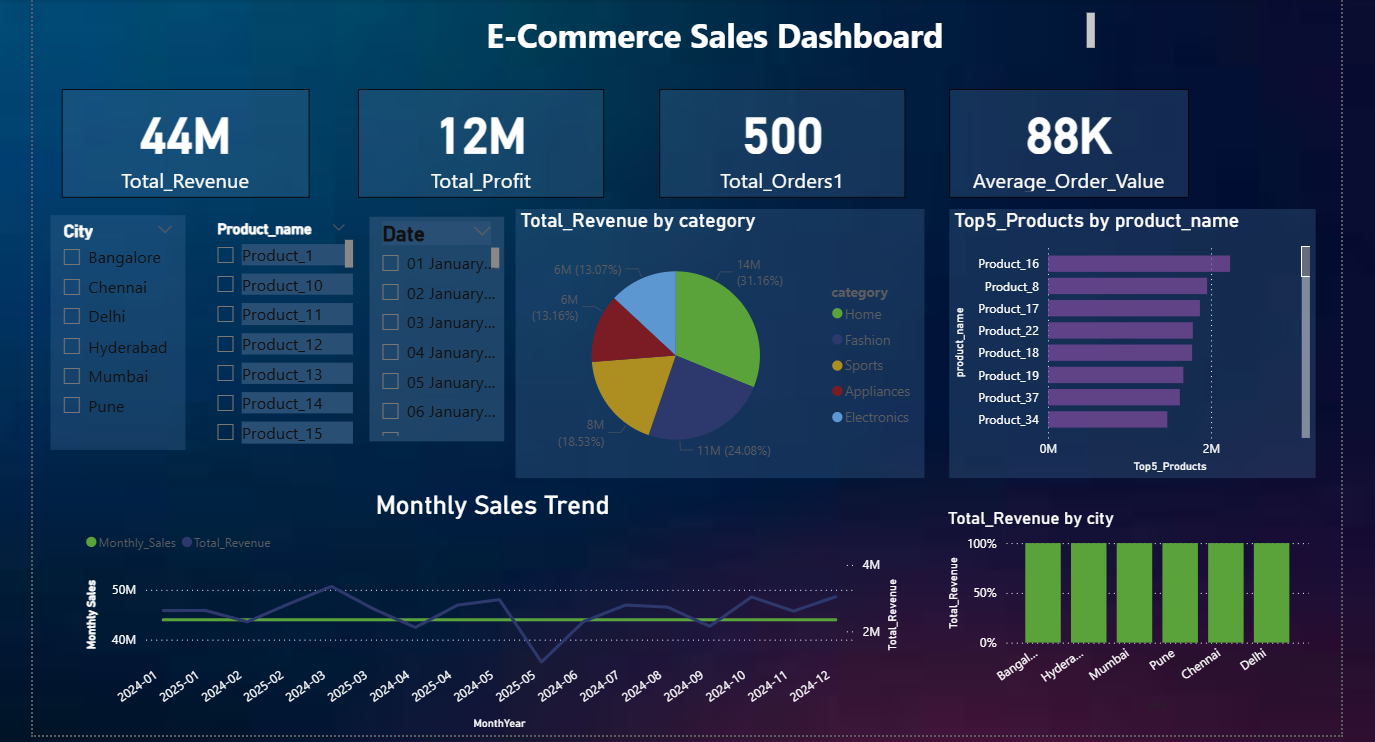

Layout of this report page (visuals, bound fields, positions):
{"tool":"powerbi","page":{"name":"Dashboard","canvas":[1280,720],"ordinal":1},"visuals":[{"type":"textbox","box":[297.5,8.6,746.9,48.1],"z":0},{"type":"pieChart","fields":{"Y":["Orders.Total_Revenue"],"Category":["Products.category"]},"box":[471.6,204.9,400,263],"z":1000},{"type":"slicer","fields":{"Values":["Customers.city"]},"box":[17.3,211.1,132.1,229.6],"z":2000},{"type":"clusteredBarChart","fields":{"Category":["Products.product_name"],"Y":["Customers.Top5_Products"]},"box":[896.3,204.9,358,263],"z":3000},{"type":"card","fields":{"Values":["Orders.Total_Revenue"]},"box":[28.2,88.5,242.3,106.4],"z":4000},{"type":"card","fields":{"Values":["Customers.Total_Profit"]},"box":[317.9,88.5,241,106.4],"z":5000},{"type":"card","fields":{"Values":["Orders.Total_Orders1"]},"box":[612.8,88.5,241,106.4],"z":6000},{"type":"card","fields":{"Values":["Customers.Average_Order_Value"]},"box":[896.2,88.5,234.6,106.4],"z":7000},{"type":"lineChart","title":"Monthly Sales Trend","fields":{"Y":["Customers.Monthly_Sales"],"Category":["Orders.MonthYear"],"Y2":["Orders.Total_Revenue"]},"box":[46.9,480.2,806.2,239.5],"z":8000},{"type":"hundredPercentStackedColumnChart","fields":{"Category":["Customers.city"],"Y":["Orders.Total_Revenue"]},"box":[890.1,497.5,363,204.9],"z":8001},{"type":"slicer","fields":{"Values":["Products.product_name"]},"box":[167.9,211.1,150.6,229.6],"z":8002},{"type":"slicer","fields":{"Values":["Orders.date"]},"box":[328.4,212.3,132.1,219.8],"z":8003}]}

Visuals, with their boxes on the page's 1280x720 design canvas (x1, y1, x2, y2). These are canvas units, not pixel positions in the 1375x742 screenshot, which may show the page scaled, cropped or inside an application window:
textbox: x1=298 y1=9 x2=1044 y2=57
pieChart - Orders.Total_Revenue x Products.category: x1=472 y1=205 x2=872 y2=468
slicer - Customers.city: x1=17 y1=211 x2=149 y2=441
clusteredBarChart - Products.product_name x Customers.Top5_Products: x1=896 y1=205 x2=1254 y2=468
card - Orders.Total_Revenue: x1=28 y1=88 x2=270 y2=195
card - Customers.Total_Profit: x1=318 y1=88 x2=559 y2=195
card - Orders.Total_Orders1: x1=613 y1=88 x2=854 y2=195
card - Customers.Average_Order_Value: x1=896 y1=88 x2=1131 y2=195
"Monthly Sales Trend" lineChart: x1=47 y1=480 x2=853 y2=720
hundredPercentStackedColumnChart - Customers.city x Orders.Total_Revenue: x1=890 y1=498 x2=1253 y2=702
slicer - Products.product_name: x1=168 y1=211 x2=318 y2=441
slicer - Orders.date: x1=328 y1=212 x2=460 y2=432
